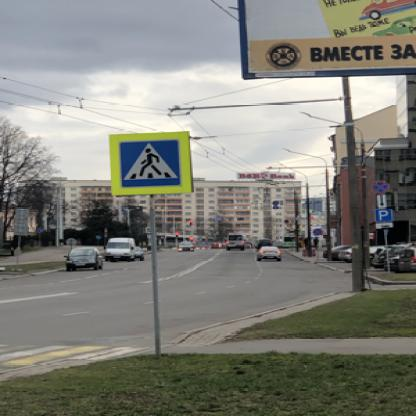crosswalk: (116, 137, 180, 187)
